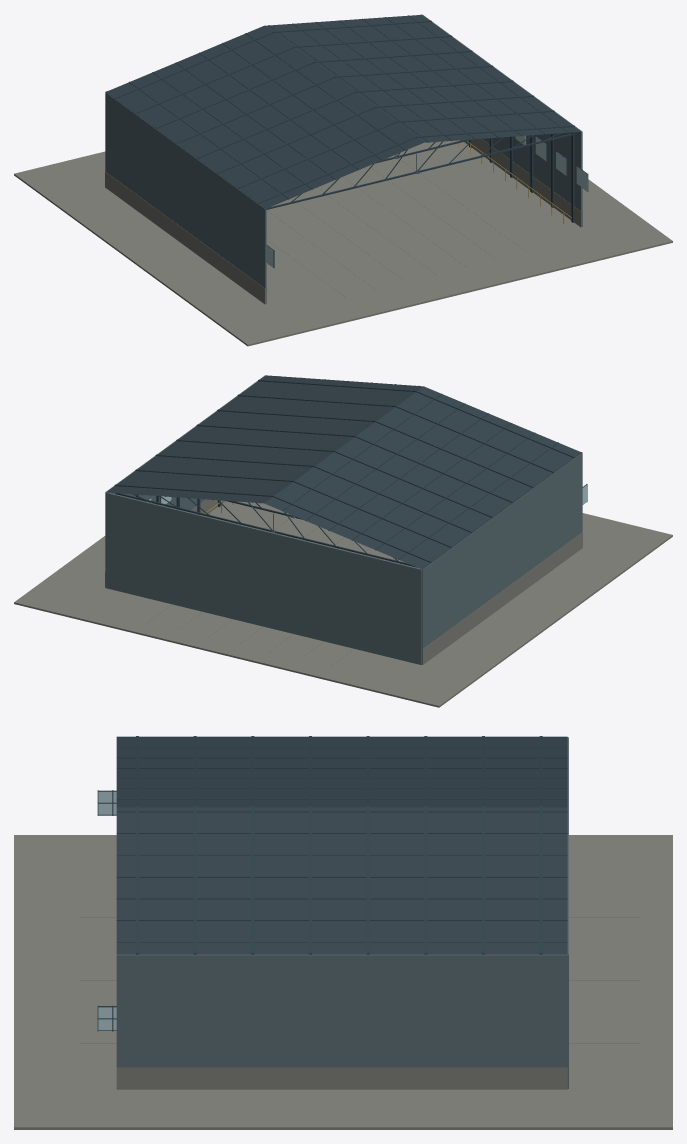
Rendered from warehouse-structure.glb.
3 renders of one model, top to bottom at view 1: azimuth 30°, elevation 25°; view 2: azimuth 150°, elevation 25°; view 3: azimuth 270°, elevation 25°, orthographic. The views are drawn at different scales.
Visible parts, largest first — view 1: WarehouseFloor, WarehouseRoof, WarehouseRoof.001, WarehouseLeftWall, WarehouseRightWall, ConcretePlinth, ConcretePlinth.001, TrussTie.007; view 2: WarehouseFloor, WarehouseRearWall, WarehouseRoof, WarehouseRoof.001, WarehouseLeftWall, ConcretePlinth, TrussTie, WarehouseRightWall; view 3: WarehouseFloor, WarehouseRoof.001, WarehouseRightWall, WarehouseRoof, ConcretePlinth.001, RoofPurlin, RoofPurlin.002, RoofPurlin.003, RoofPurlin.007, RoofPurlin.009, RoofPurlin.010, RoofPurlin.011 (+8 smaller).
Boxes of the visible parts, x1,y1,x2,y2 form: WarehouseFloor: [14, 140, 672, 346]; WarehouseRoof: [107, 26, 423, 208]; WarehouseRoof.001: [264, 14, 581, 142]; WarehouseLeftWall: [105, 92, 266, 303]; WarehouseRightWall: [422, 14, 582, 227]; ConcretePlinth: [105, 171, 266, 304]; ConcretePlinth.001: [464, 139, 582, 227]; TrussTie.007: [266, 133, 572, 209]; WarehouseFloor: [14, 501, 672, 707]; WarehouseRearWall: [105, 492, 421, 664]; WarehouseRoof: [264, 386, 580, 569]; WarehouseRoof.001: [106, 375, 423, 503]; WarehouseLeftWall: [422, 452, 582, 664]; ConcretePlinth: [422, 532, 582, 664]; TrussTie: [117, 493, 416, 567]; WarehouseRightWall: [105, 375, 265, 587]; WarehouseFloor: [14, 835, 672, 1129]; WarehouseRoof.001: [116, 807, 567, 954]; WarehouseRightWall: [116, 954, 567, 1067]; WarehouseRoof: [116, 737, 567, 807]; ConcretePlinth.001: [116, 1067, 567, 1089]; RoofPurlin: [116, 736, 567, 737]; RoofPurlin.002: [116, 757, 567, 758]; RoofPurlin.003: [116, 767, 567, 768]; RoofPurlin.007: [116, 811, 567, 812]; RoofPurlin.009: [116, 854, 567, 855]; RoofPurlin.010: [116, 876, 567, 877]; RoofPurlin.011: [116, 898, 567, 899].
Bounding box in the file's own units: 42 × 11.89 × 40.
